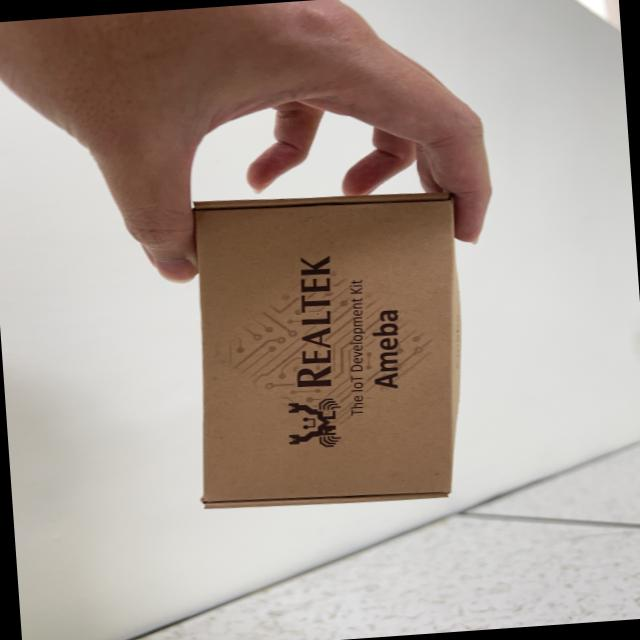box: (169, 165, 482, 558)
